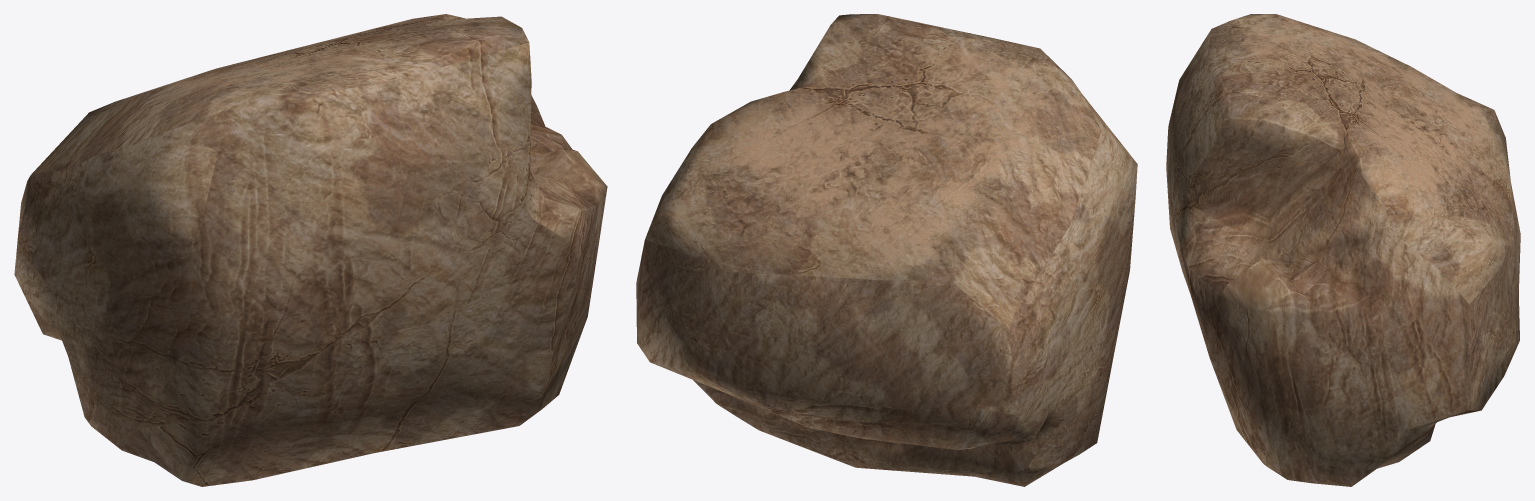
File: rock_small02.dae
3 views of the same model, side by side, from view 1: azimuth 30°, elevation 25°; view 2: azimuth 150°, elevation 25°; view 3: azimuth 270°, elevation 25° (orthographic). The views are drawn at different scales.
Parts seen in each view (by area): view 1: Mesh; view 2: Mesh; view 3: Mesh.
Boxes of the visible parts, x1,y1,x2,y2 form: Mesh: [14, 14, 607, 486]; Mesh: [636, 14, 1137, 486]; Mesh: [1166, 14, 1520, 486].
Size of the model in its own units: 1.38 by 1.15 by 1.05.
